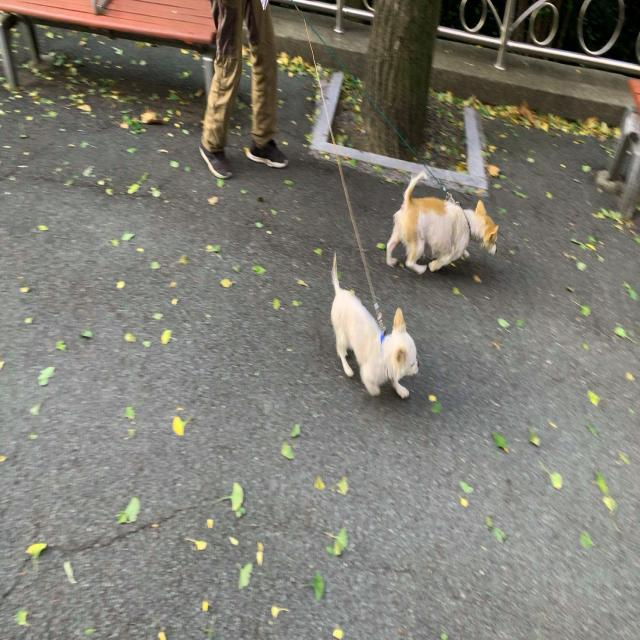Leashed_Dog: (215, 0, 420, 401), (215, 0, 499, 278)
